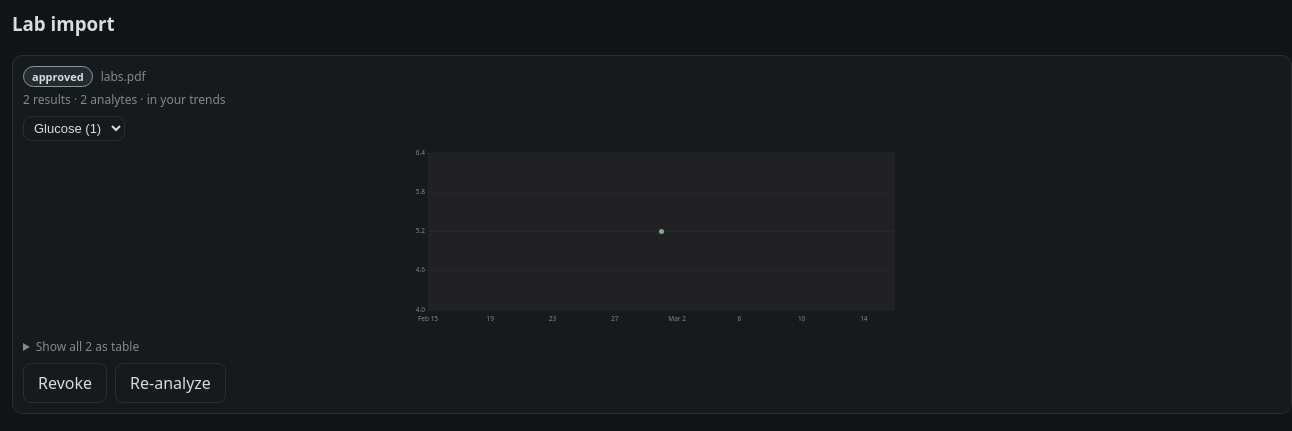
Test case: LabImportPanel — revoke › Revoke on an approved import posts to revoke and returns it to needs-review
The image size is (1292, 431).
What coordinates should you click on to do the following:
click the button "Revoke"
I would click on:
 (65, 383)
Its box is 23,363 -> 107,403.
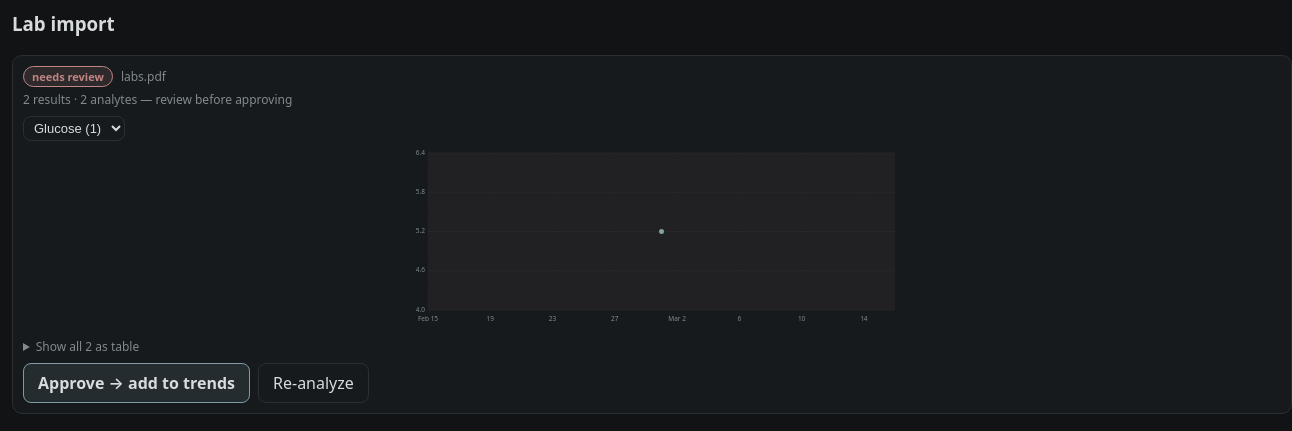
Expected: the button "Approve → add to trends" is shown, 23,363 -> 250,403
